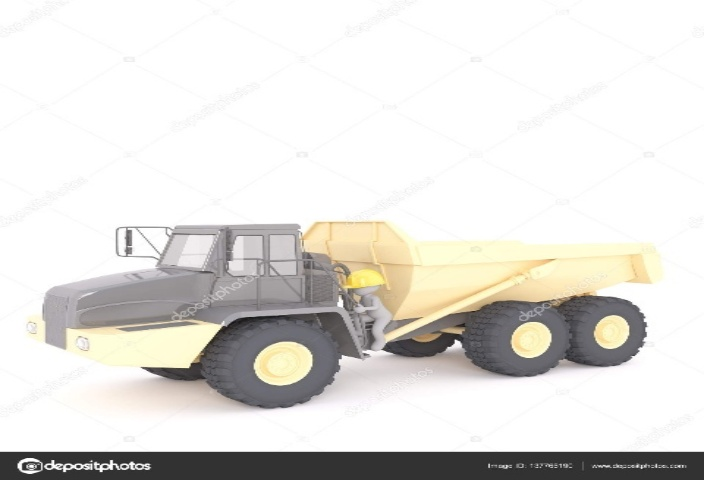industrial: (18, 188, 674, 418)
